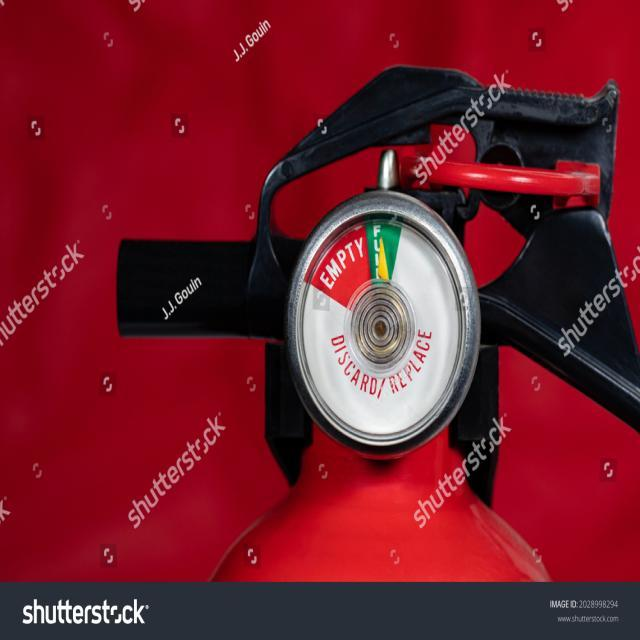pressure gauge: (286, 190, 478, 455)
